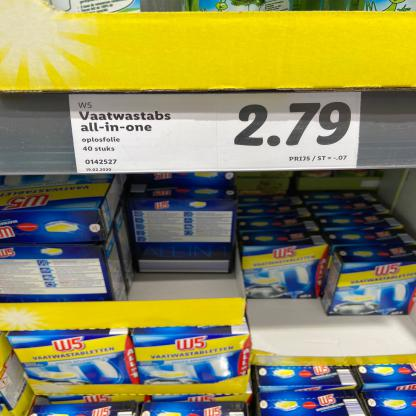prtg: (69, 93, 362, 174)
